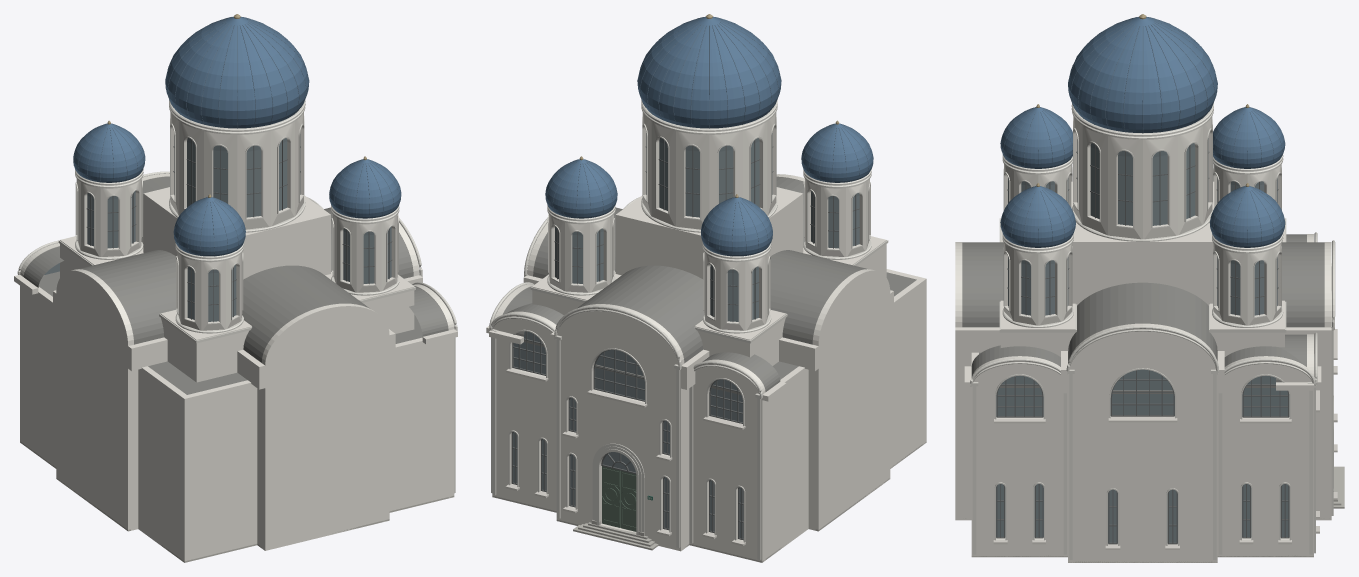
File: xuhui-xinle-orthodox-cathedral-web.glb
3 renders of one model, left to right at view 1: azimuth 30°, elevation 25°; view 2: azimuth 150°, elevation 25°; view 3: azimuth 270°, elevation 25°, orthographic. The views are drawn at different scales.
Visible parts, largest first — view 1: 圣母大堂（新乐路东正教堂）; view 2: 圣母大堂（新乐路东正教堂）; view 3: 圣母大堂（新乐路东正教堂）.
Part boxes in pixels (<box>): 圣母大堂（新乐路东正教堂）: <box>14,14,457,562</box>; 圣母大堂（新乐路东正教堂）: <box>486,14,926,562</box>; 圣母大堂（新乐路东正教堂）: <box>955,14,1344,562</box>.
Bounding box in the file's own units: 23.83 × 35 × 26.05.
